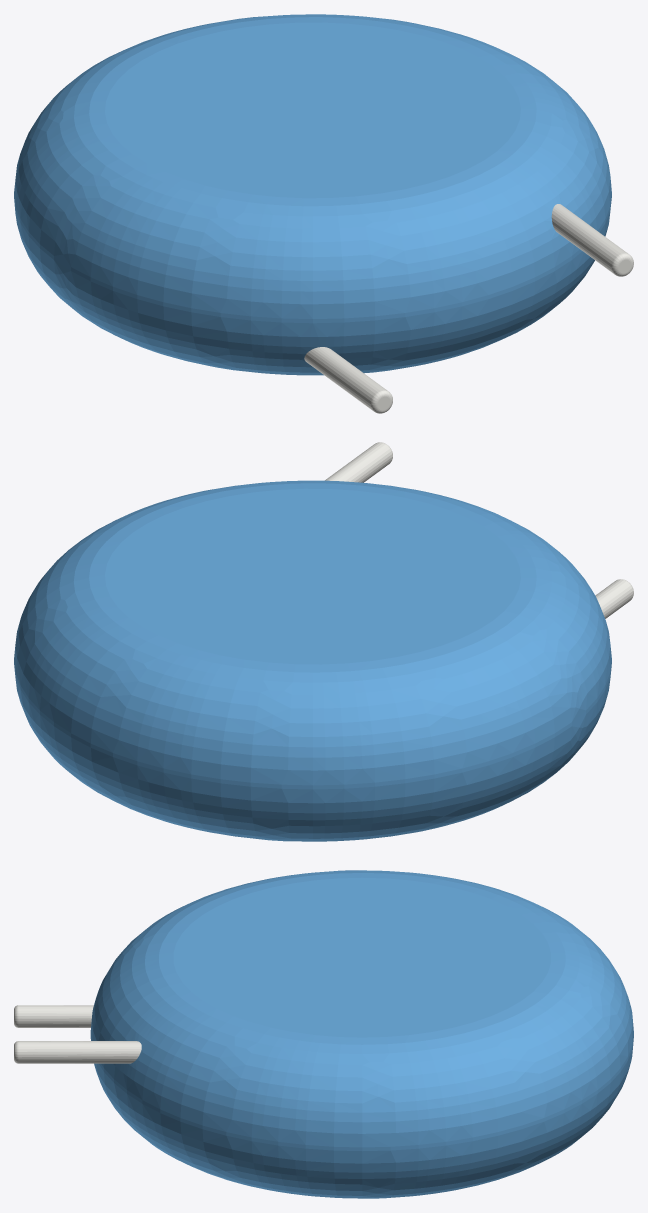
Rendered from RV_Disc_D21.5mm_W6.7mm_P10mm.glb.
3 views of the same model, one above another, from view 1: azimuth 30°, elevation 25°; view 2: azimuth 150°, elevation 25°; view 3: azimuth 270°, elevation 25° (orthographic). The views are drawn at different scales.
Parts seen in each view (by area): view 1: Shape_IndexedFaceSet.001, Shape_IndexedFaceSet.003, Shape_IndexedFaceSet.002, Shape_IndexedFaceSet, Shape_IndexedFaceSet.006, Shape_IndexedFaceSet.004; view 2: Shape_IndexedFaceSet.001, Shape_IndexedFaceSet.003, Shape_IndexedFaceSet.002, Shape_IndexedFaceSet, Shape_IndexedFaceSet.004, Shape_IndexedFaceSet.006; view 3: Shape_IndexedFaceSet.001, Shape_IndexedFaceSet.003, Shape_IndexedFaceSet.002, Shape_IndexedFaceSet.004, Shape_IndexedFaceSet, Shape_IndexedFaceSet.006.
Part boxes in pixels (x1,y1,x2,y2): Shape_IndexedFaceSet.001: (14,14,611,318); Shape_IndexedFaceSet.003: (105,22,520,198); Shape_IndexedFaceSet.002: (14,198,611,375); Shape_IndexedFaceSet: (14,194,611,323); Shape_IndexedFaceSet.006: (304,347,387,410); Shape_IndexedFaceSet.004: (551,204,627,273); Shape_IndexedFaceSet.001: (14,480,611,785); Shape_IndexedFaceSet.003: (105,488,520,664); Shape_IndexedFaceSet.002: (14,664,611,841); Shape_IndexedFaceSet: (14,660,611,789); Shape_IndexedFaceSet.004: (325,442,392,482); Shape_IndexedFaceSet.006: (595,579,633,618); Shape_IndexedFaceSet.001: (90,870,633,1147); Shape_IndexedFaceSet.003: (173,877,550,1037); Shape_IndexedFaceSet.002: (90,1038,633,1198); Shape_IndexedFaceSet.004: (18,1041,141,1063); Shape_IndexedFaceSet: (90,1034,633,1151); Shape_IndexedFaceSet.006: (18,1005,93,1027).
Bounding box in the file's own units: 8.47 × 2.64 × 9.66.
